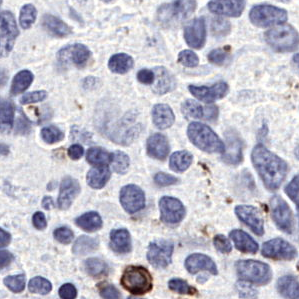Lymphocyte: (119, 263, 156, 296)
